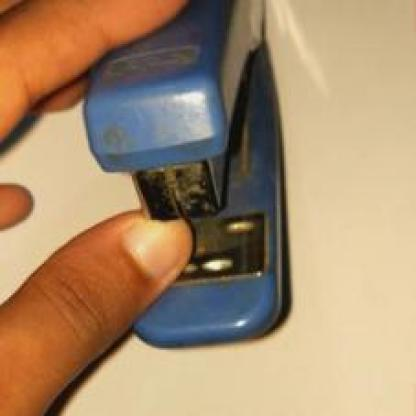stapler: (83, 0, 319, 333)
